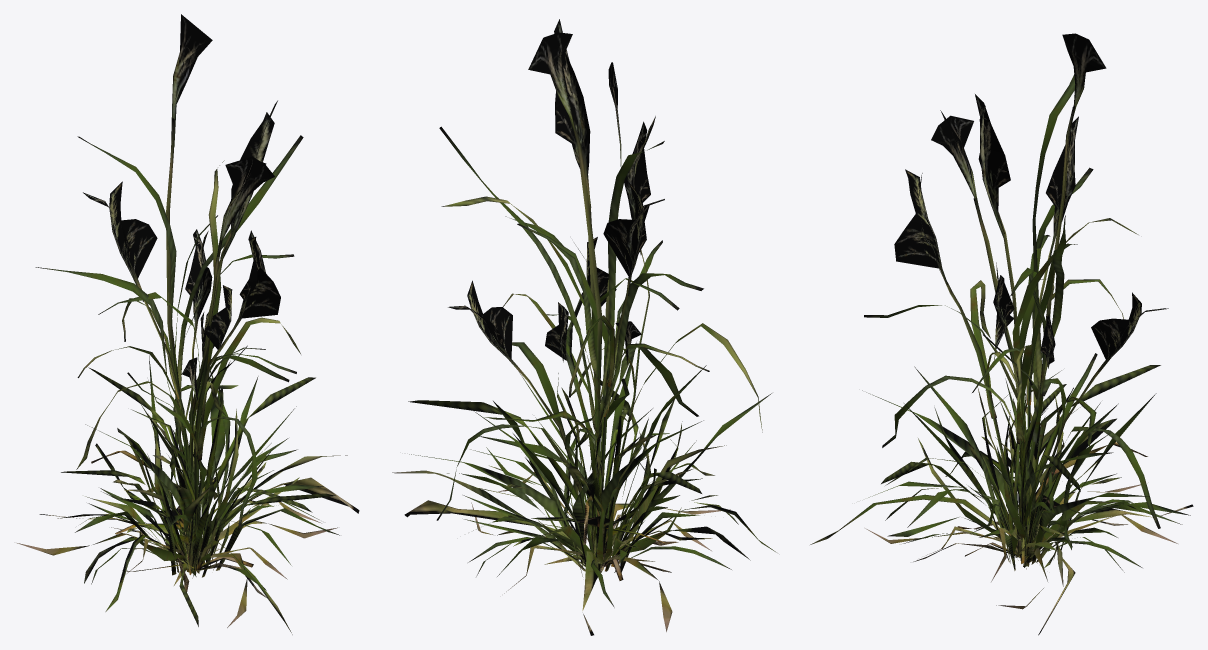
The model's file is plant_grass_medium_01.glb.
3 renders of one model, left to right at view 1: azimuth 30°, elevation 25°; view 2: azimuth 150°, elevation 25°; view 3: azimuth 270°, elevation 25°, orthographic. The views are drawn at different scales.
Parts seen in each view (by area): view 1: grassMidA, grassTallB, grassTallA, grassSmallA; view 2: grassMidA, grassTallA, grassTallB, grassSmallA; view 3: grassMidA, grassTallB, grassTallA, grassSmallA.
Part boxes in pixels (x1=…): grassMidA: x1=17, y1=285, x2=359, y2=634; grassTallB: x1=76, y1=100, x2=300, y2=571; grassTallA: x1=35, y1=14, x2=303, y2=576; grassSmallA: x1=57, y1=345, x2=335, y2=626; grassMidA: x1=392, y1=237, x2=771, y2=635; grassTallA: x1=436, y1=32, x2=703, y2=572; grassTallB: x1=441, y1=19, x2=762, y2=556; grassSmallA: x1=408, y1=292, x2=776, y2=607; grassMidA: x1=810, y1=262, x2=1193, y2=635; grassTallB: x1=882, y1=94, x2=1138, y2=555; grassTallA: x1=864, y1=33, x2=1168, y2=567; grassSmallA: x1=881, y1=334, x2=1182, y2=572.
Bounding box in the file's own units: 0.1953 × 0.3225 × 0.2006.
1 material, 1 textured.
